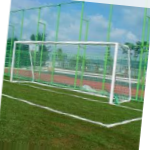goals: (10, 38, 134, 107)
